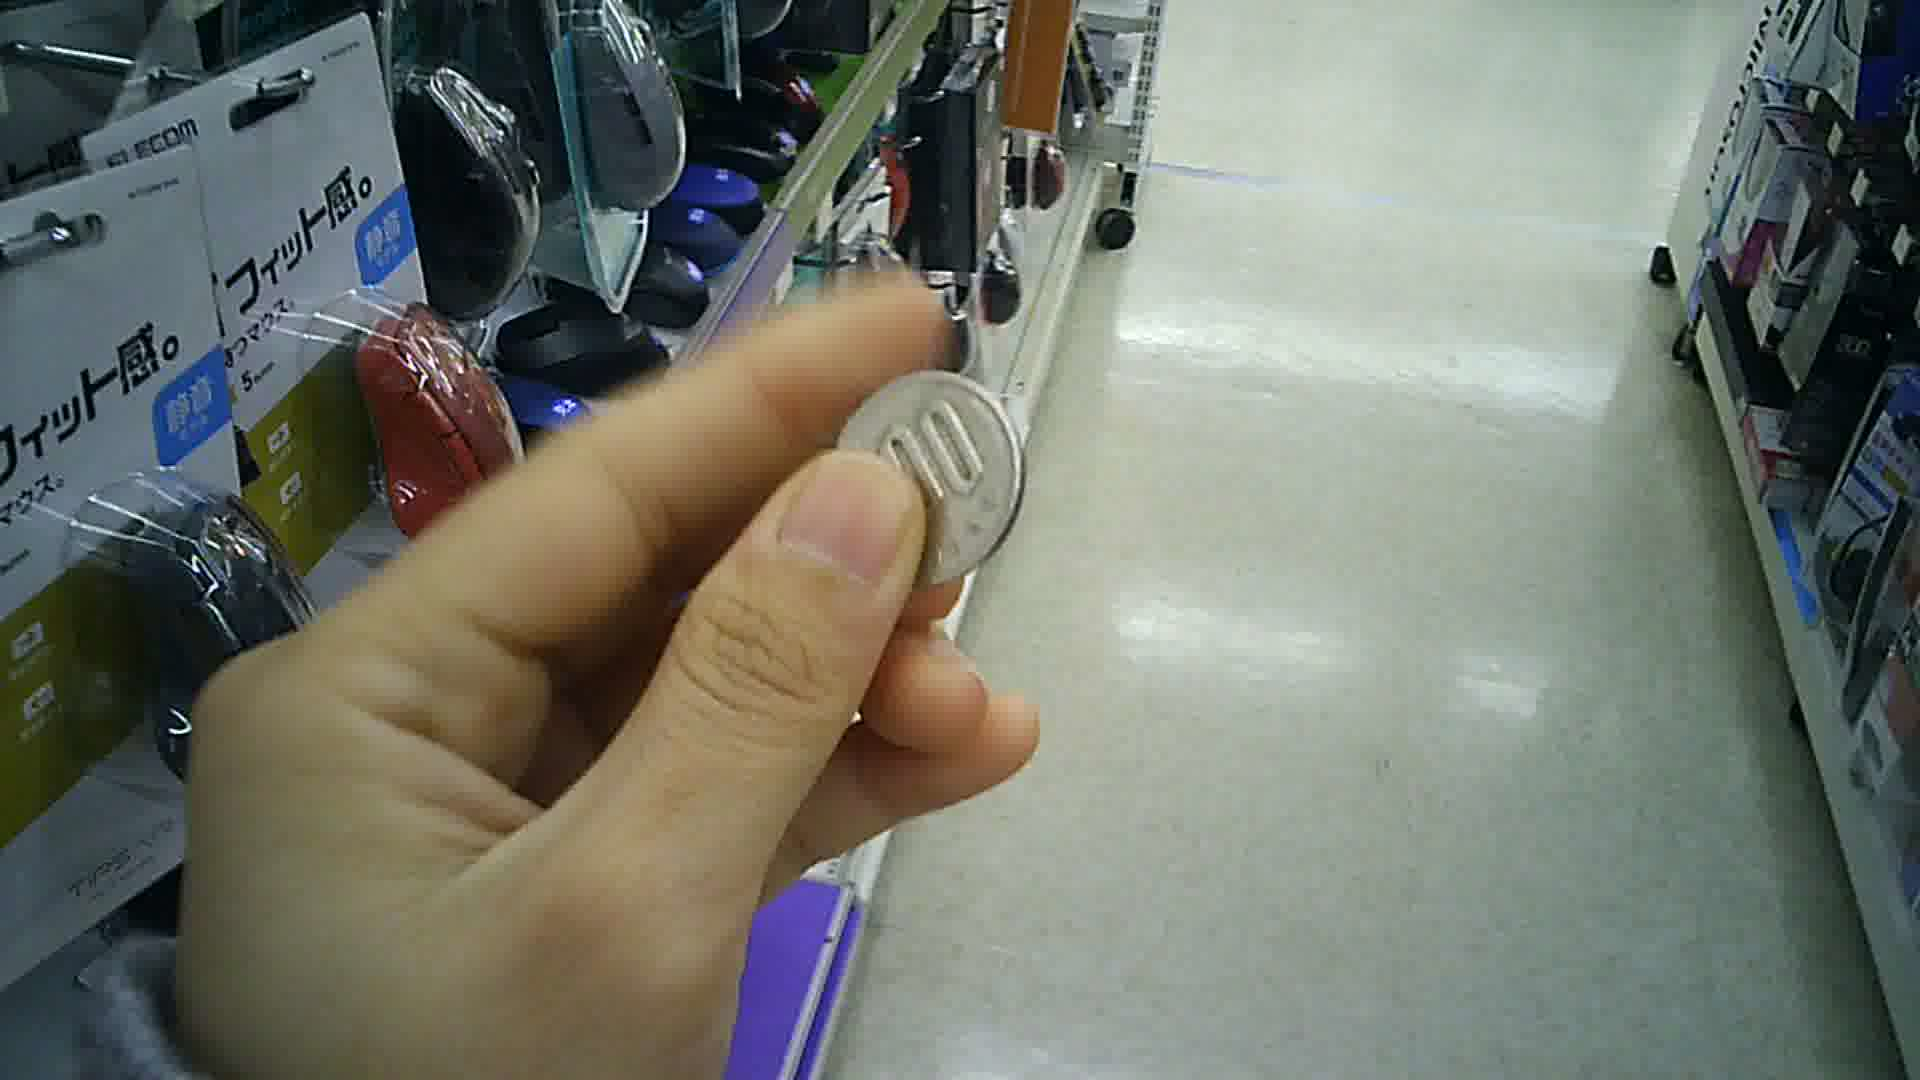100 Yen: (828, 357, 1034, 605)
